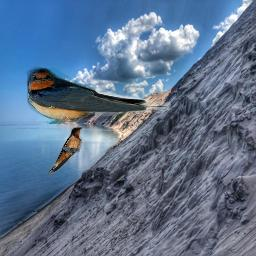Swallow: (24, 65, 171, 124), (45, 126, 83, 176)
